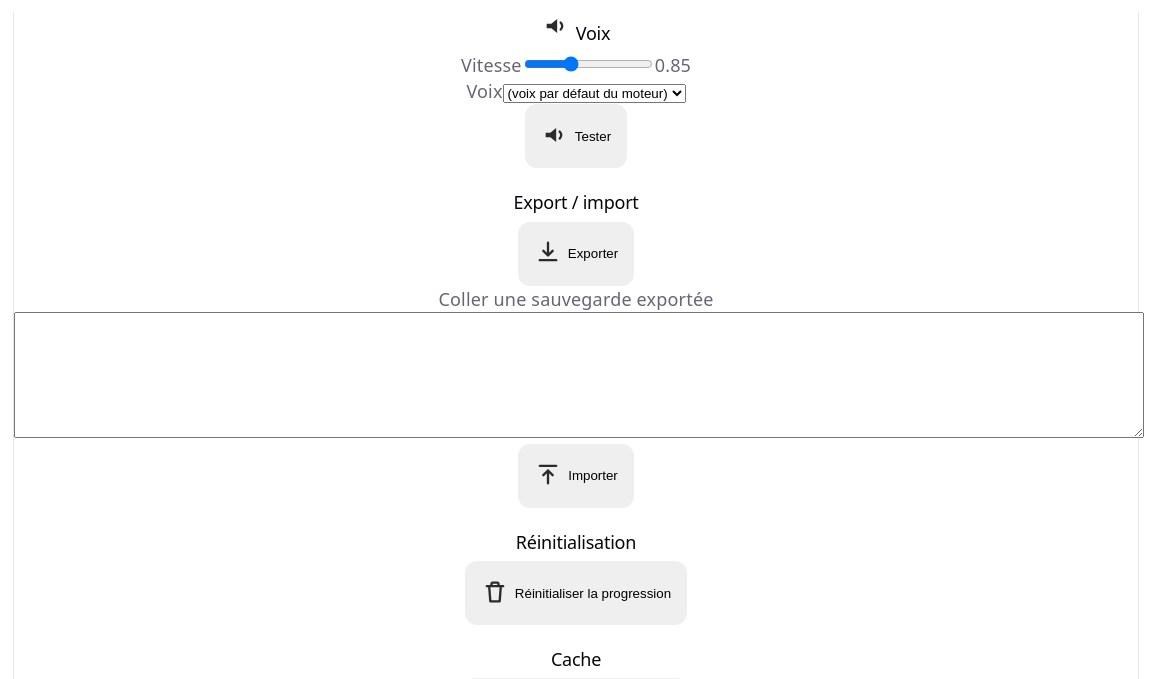
ParentSettings — réglages voix › le slider de vitesse a une valeur par défaut plausible et se met à jour au déplacement
The image size is (1152, 679).
Set the slider with test id "parent-voice-rate" to "1.2" at (611, 64), box [524,56,653,72]
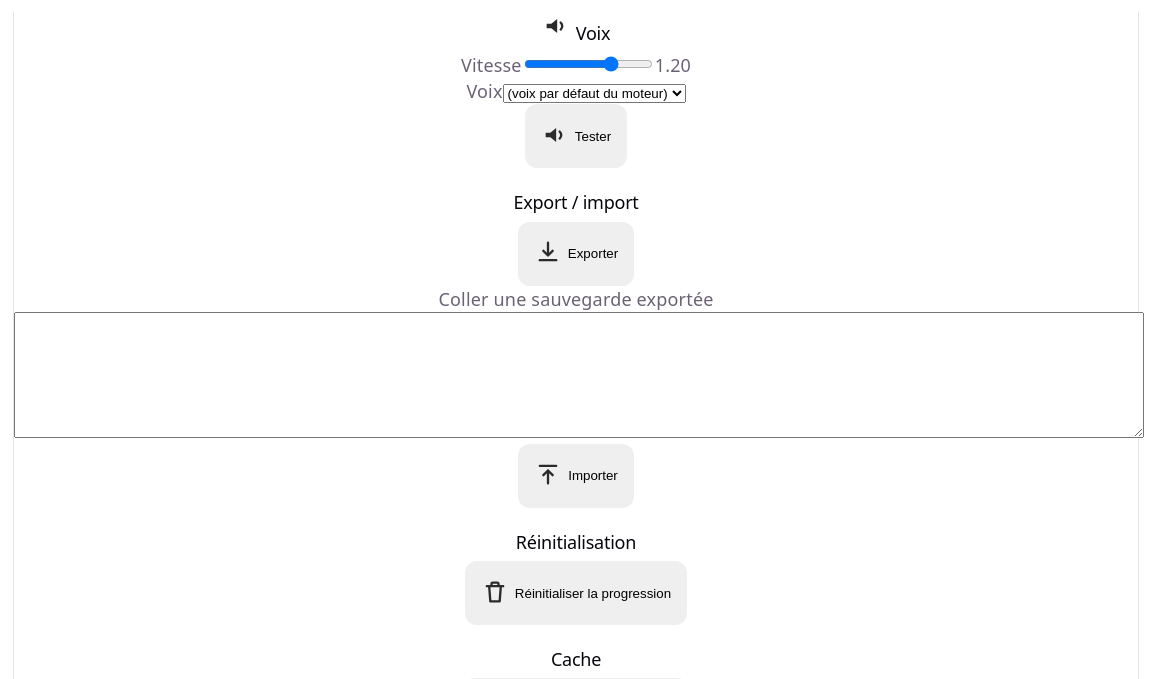
expect the text with test id "parent-voice-rate-value" reads "1.20": met, box [655,53,691,77]
